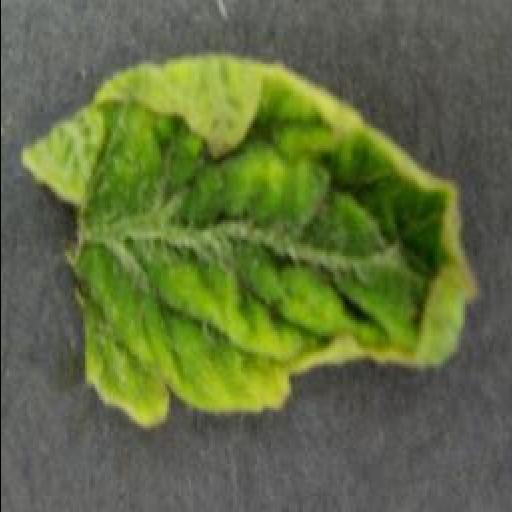disease_tomato: (19, 52, 481, 432)
